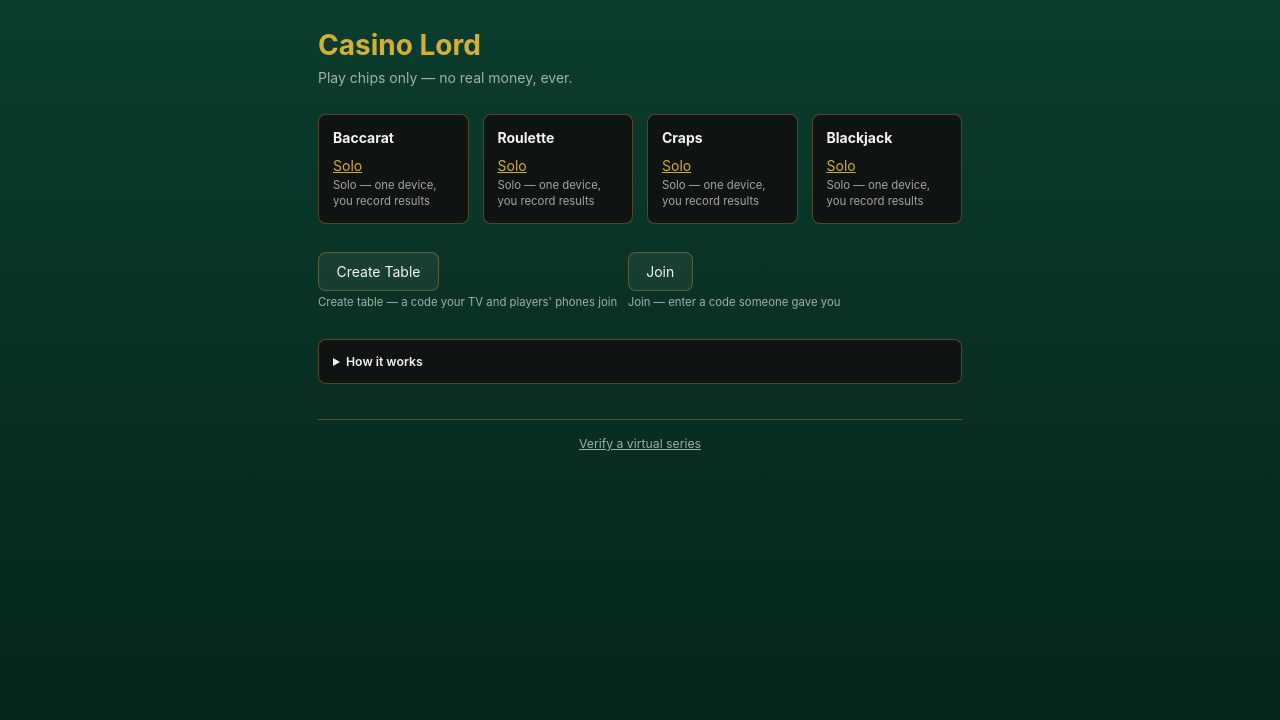
Scenario: LandingPage create sheet › shows house bank helper when with players is selected
Click the button "Create Table" at (378, 271), box left=318, top=252, right=439, bottom=291
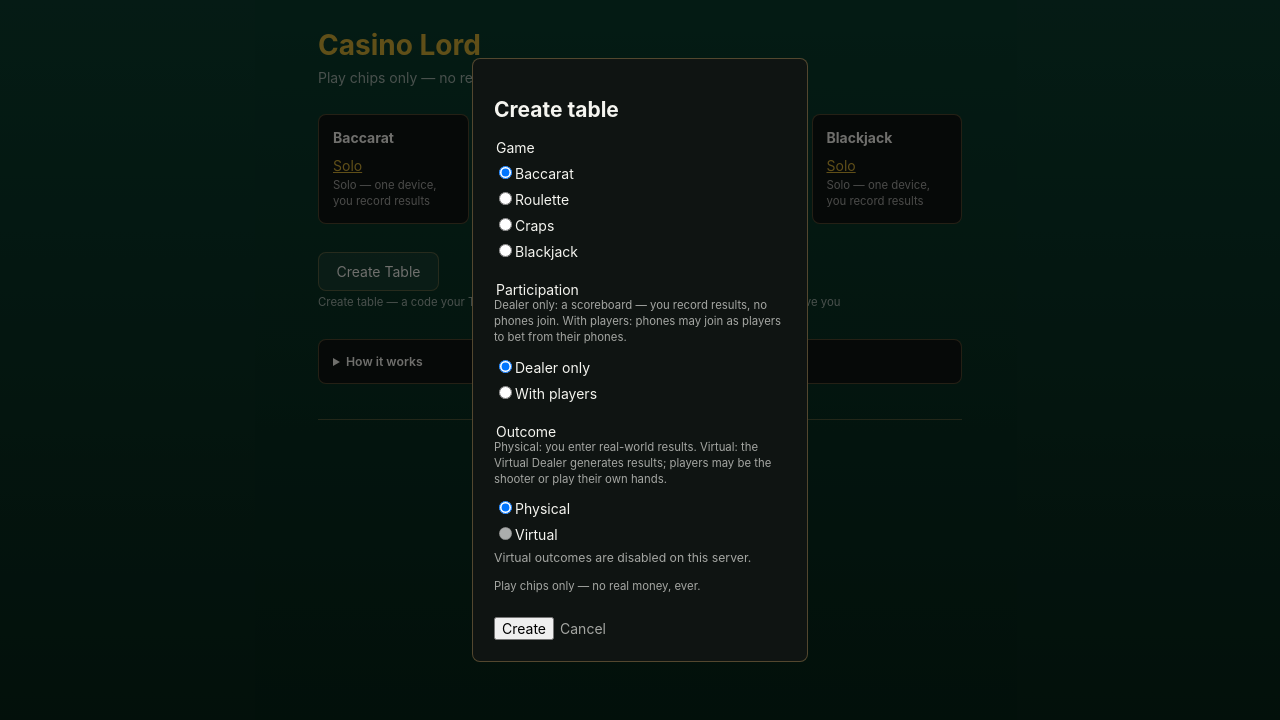
Click the radio button labelled "With players" at (506, 392), box left=499, top=386, right=512, bottom=399
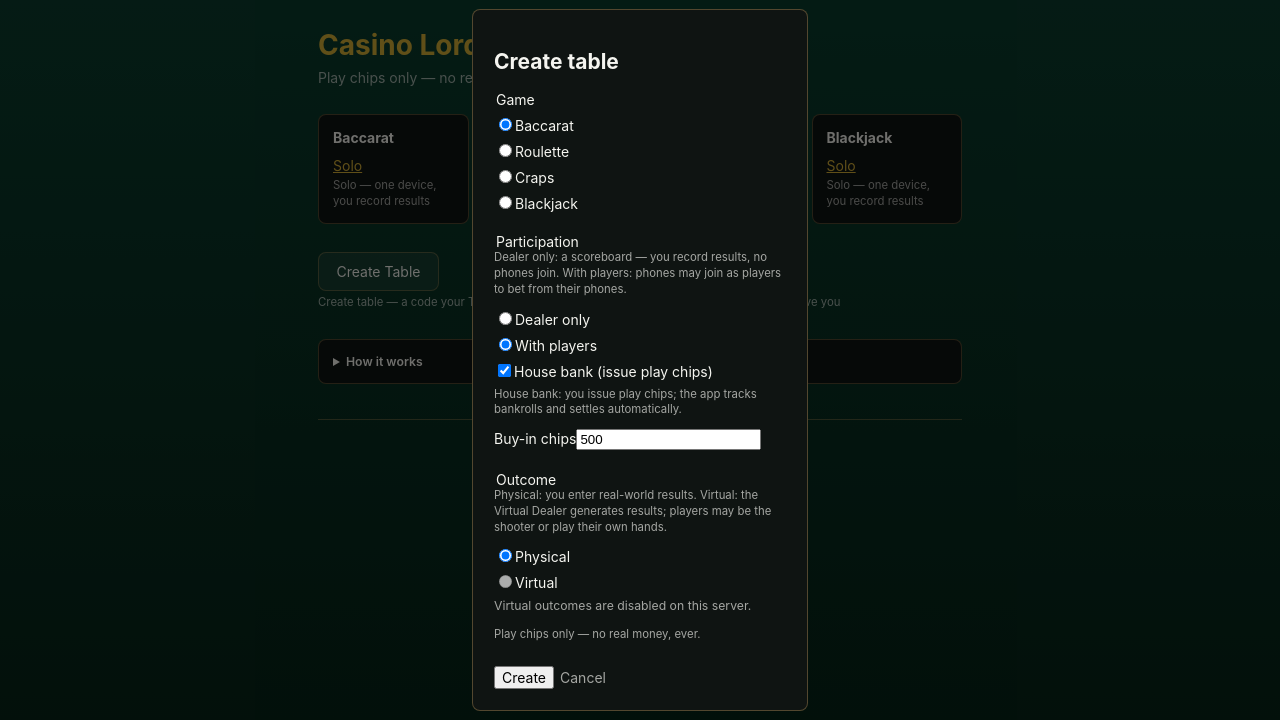
Check: the text with test id "house-bank-help" is shown, box left=494, top=386, right=786, bottom=418
Click the checkbox with test id "house-bank-checkbox" at (504, 370), box left=498, top=364, right=511, bottom=376
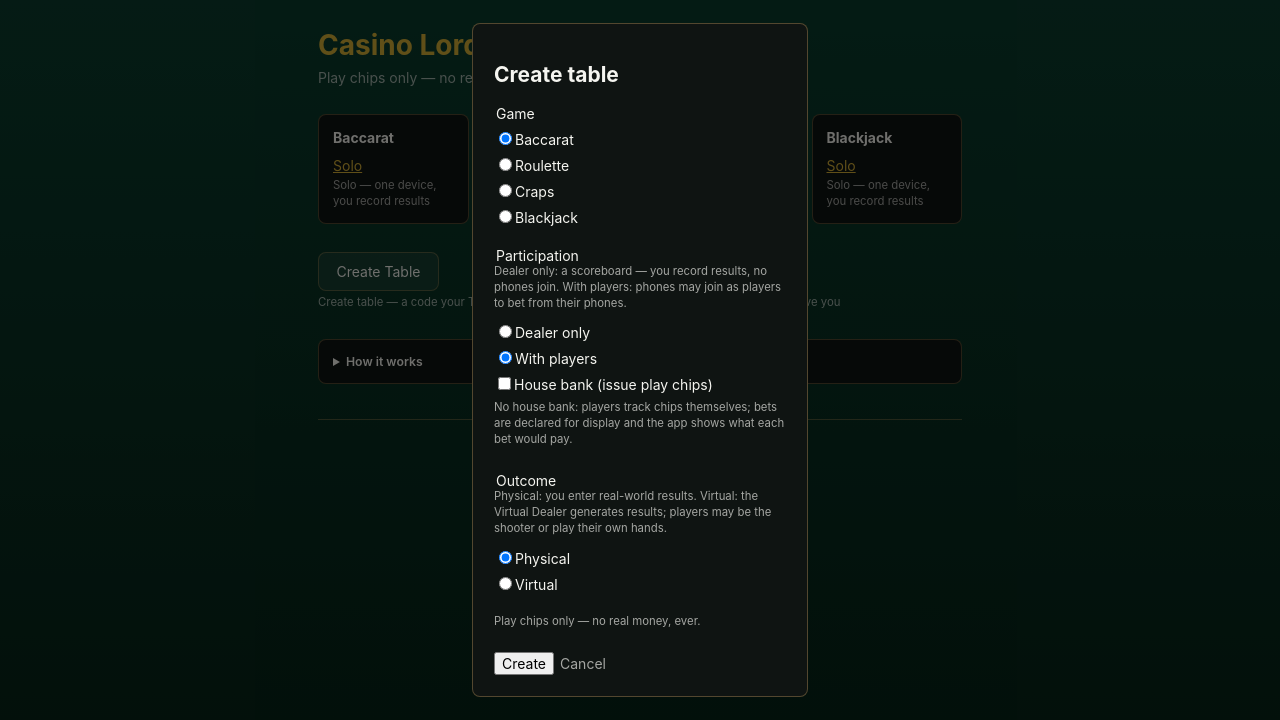
Check: the text with test id "house-bank-help" shows "track chips themselves", box left=494, top=400, right=784, bottom=446
Check: the number field with test id "buy-in-input" is gone
